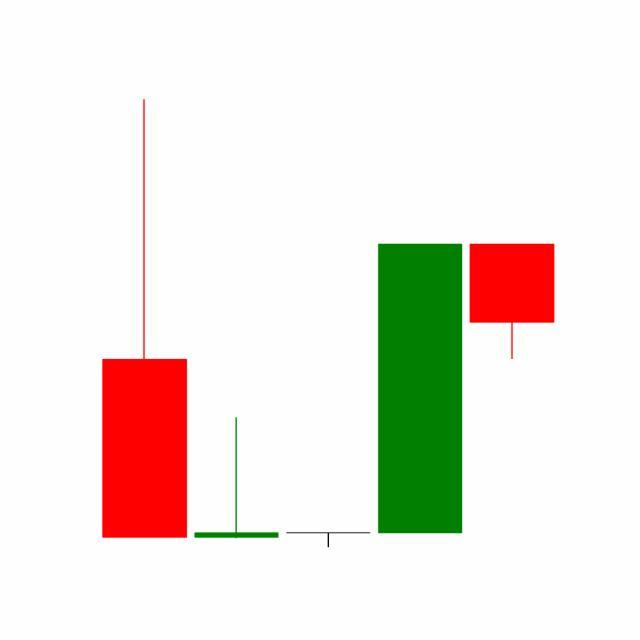Marubozu: (374, 240, 468, 537)
